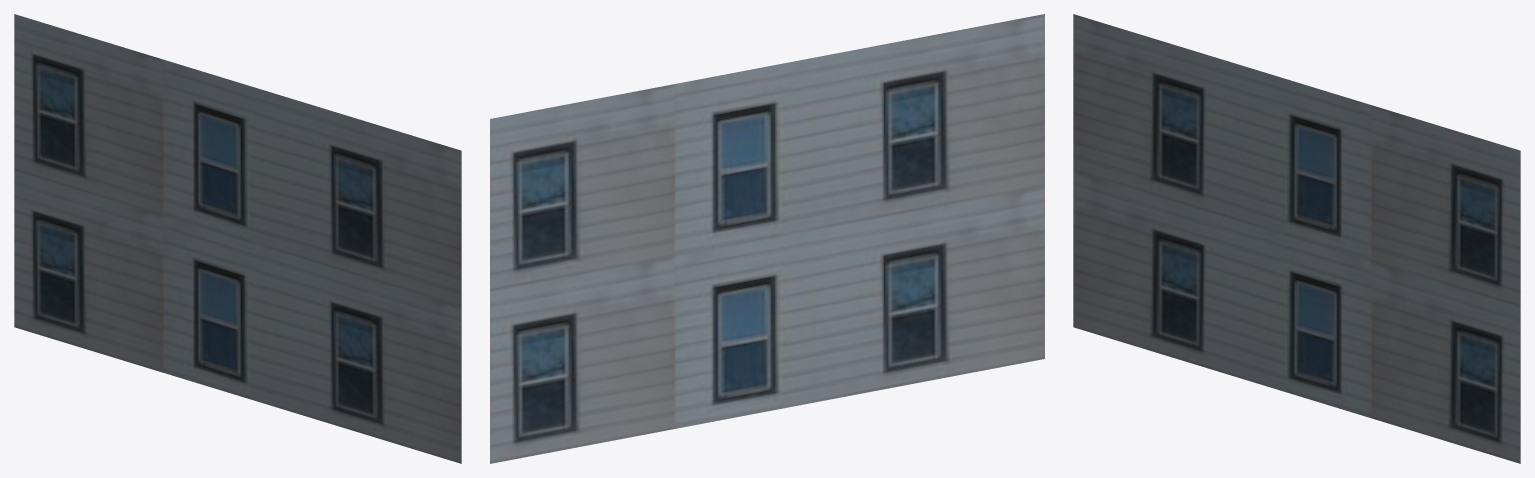
File: ResTex__412.fbx
3 renders of one model, left to right at view 1: azimuth 90°, elevation 25°; view 2: azimuth 150°, elevation 25°; view 3: azimuth 270°, elevation 25°, orthographic. The views are drawn at different scales.
Parts seen in each view (by area): view 1: CityEngineMaterial_18_m; view 2: CityEngineMaterial_18_m; view 3: CityEngineMaterial_18_m.
Boxes of the visible parts, x1,y1,x2,y2 form: CityEngineMaterial_18_m: (14, 14, 461, 463); CityEngineMaterial_18_m: (490, 14, 1044, 463); CityEngineMaterial_18_m: (1073, 14, 1520, 463).
Bounding box in the file's own units: 5.61 × 6 × 7.76.
Materials: 1 (1 with a texture image).
